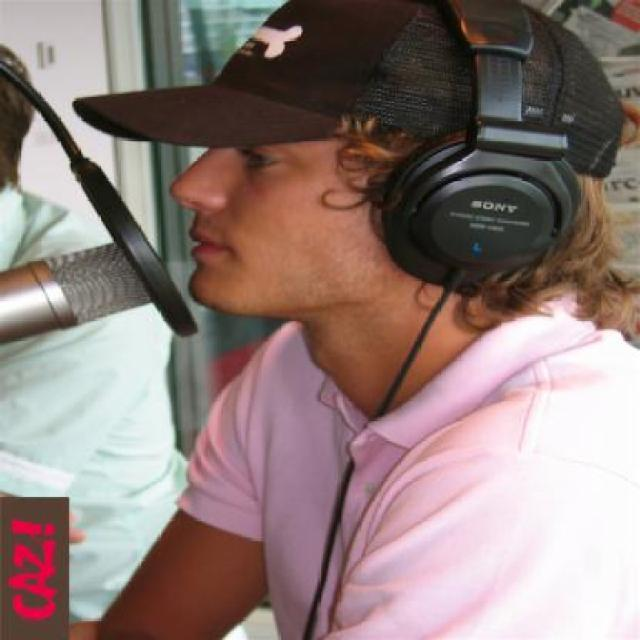earphone: (338, 0, 598, 330)
